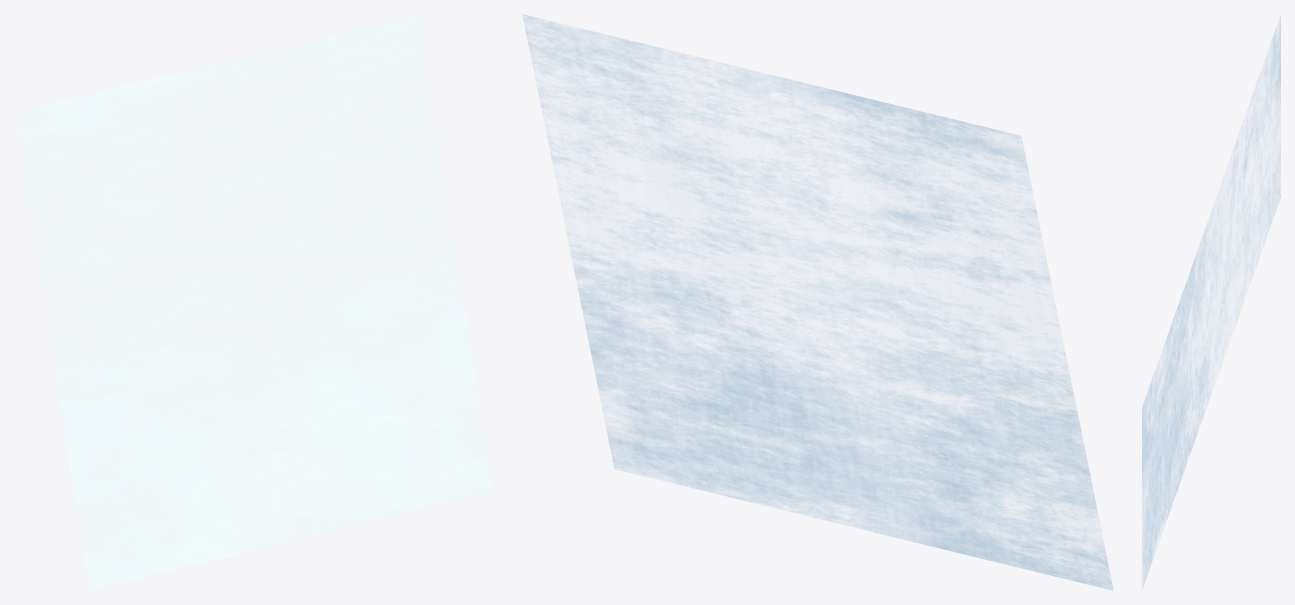
The model's file is citadel_fx_wflow_b0.glb.
3 renders of one model, left to right at view 1: azimuth 30°, elevation 25°; view 2: azimuth 150°, elevation 25°; view 3: azimuth 270°, elevation 25°, orthographic. The views are drawn at different scales.
Visible parts, largest first — view 1: citadel_fx_wflow_b0; view 2: citadel_fx_wflow_b0; view 3: citadel_fx_wflow_b0.
Part boxes in pixels (box(x1,y1,x2,y2)): citadel_fx_wflow_b0: box(14, 14, 493, 590); citadel_fx_wflow_b0: box(522, 14, 1113, 590); citadel_fx_wflow_b0: box(1142, 15, 1280, 588).
Bounding box in the file's own units: 1 × 1 × 0.32.
1 material, 1 textured.
